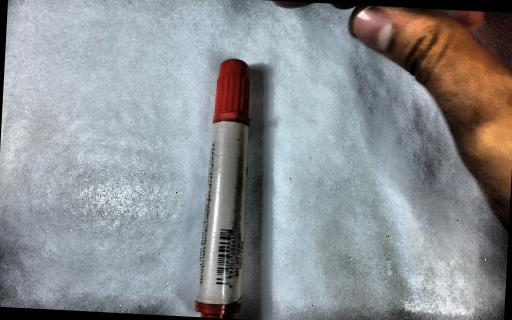marcador rojo: (195, 59, 250, 319)
